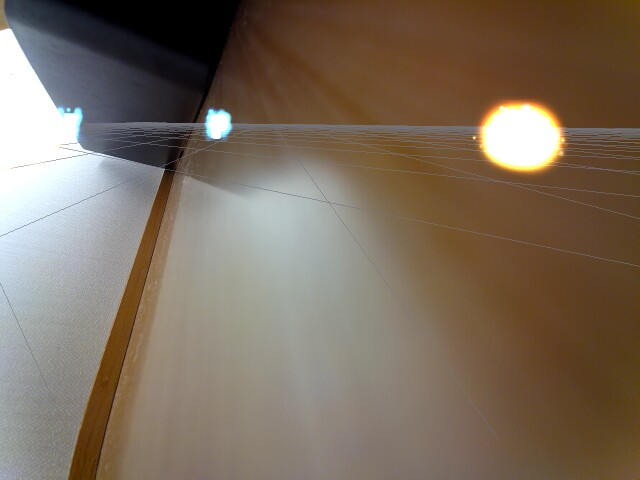firebig: (449, 82, 574, 183)
